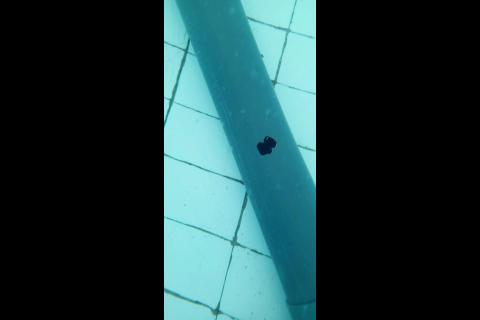kebocoran: (255, 133, 277, 158)
